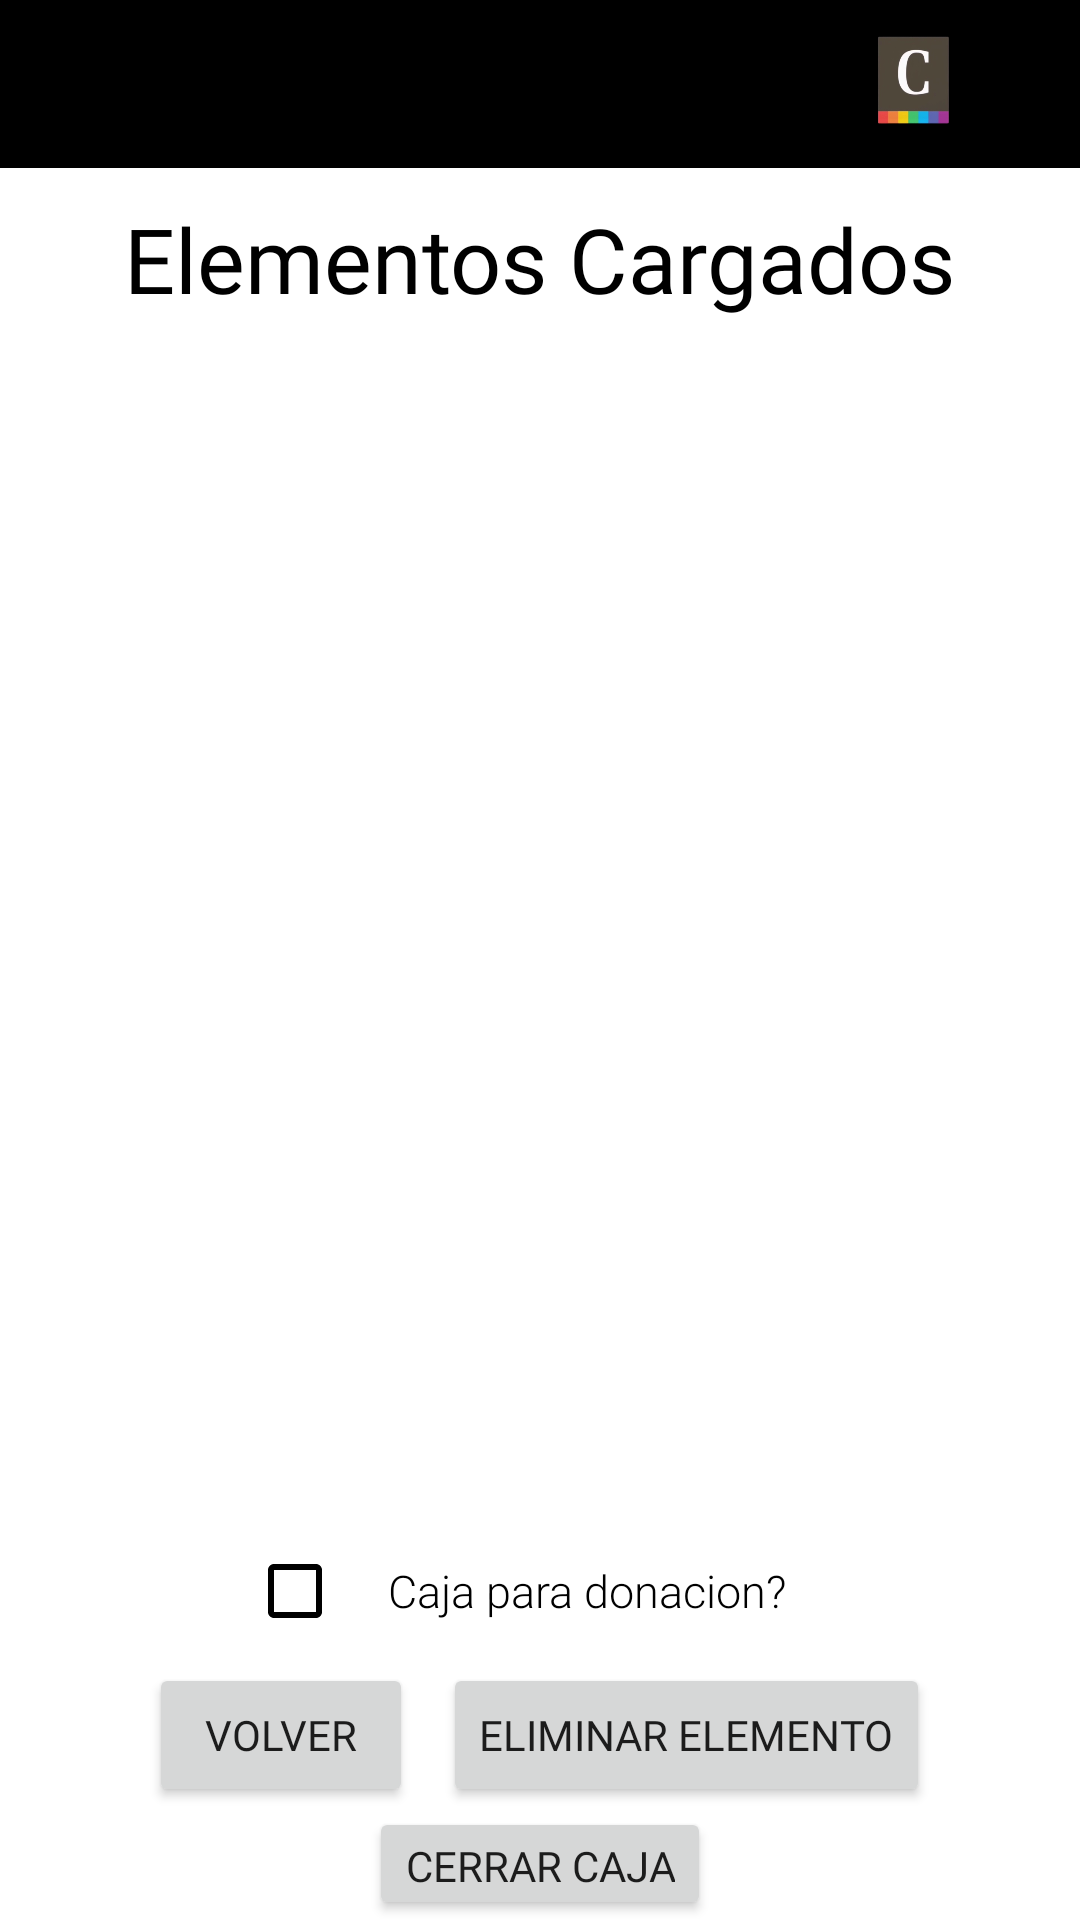

Icons on this 1080px×1920px Android screen, each with the point to tap as (x,y):
app: (913,80)
